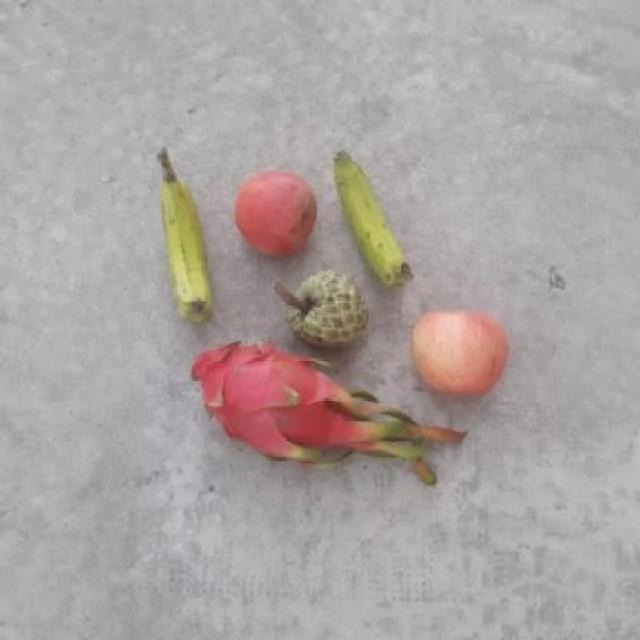apple: (408, 306, 507, 403), (229, 167, 322, 258)
banana: (327, 142, 416, 293), (152, 173, 220, 312)
dragon fruit: (189, 341, 349, 465)
sugar apple: (281, 268, 372, 351)
